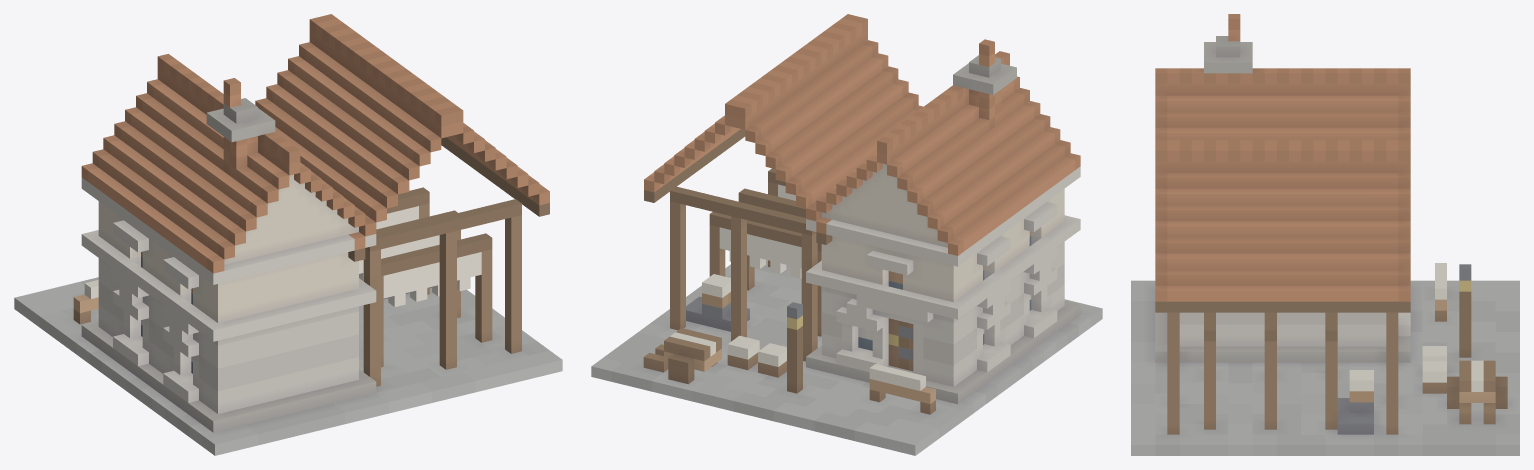
Rendered from candle_foundry.glb.
3 renders of one model, left to right at view 1: azimuth 30°, elevation 25°; view 2: azimuth 150°, elevation 25°; view 3: azimuth 270°, elevation 25°, orthographic. The views are drawn at different scales.
Parts seen in each view (by area): view 1: candle_foundry; view 2: candle_foundry; view 3: candle_foundry.
Part boxes in pixels (<box>): candle_foundry: <box>14,14,562,455</box>; candle_foundry: <box>591,14,1102,455</box>; candle_foundry: <box>1131,14,1519,455</box>.
Size of the model in its own units: 4 by 3.5 by 4.
